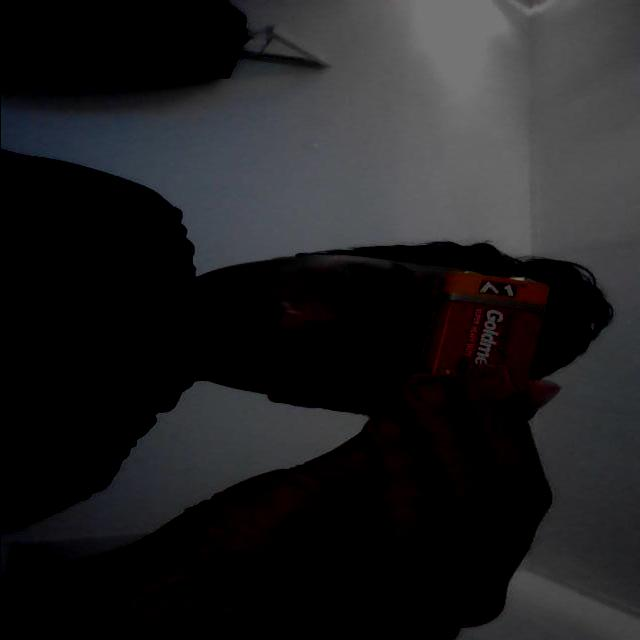9V: (408, 242, 558, 410)
